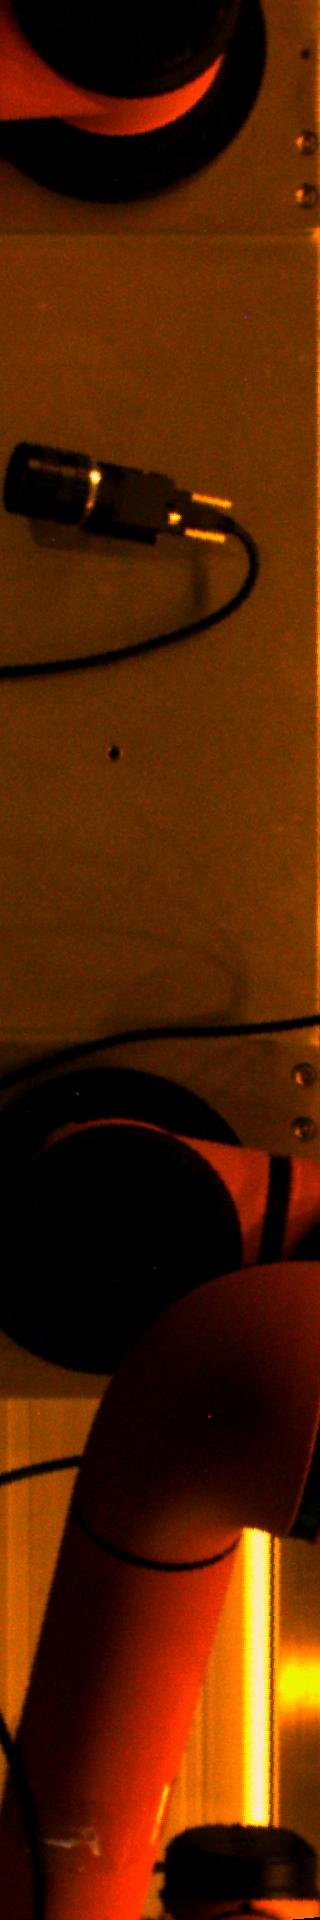keyPoint_2: (98, 740, 128, 770)
